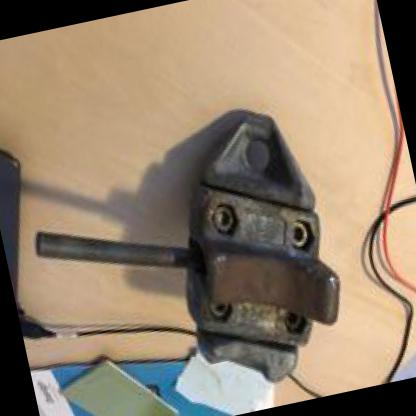Twistlock: (3, 87, 366, 415)
